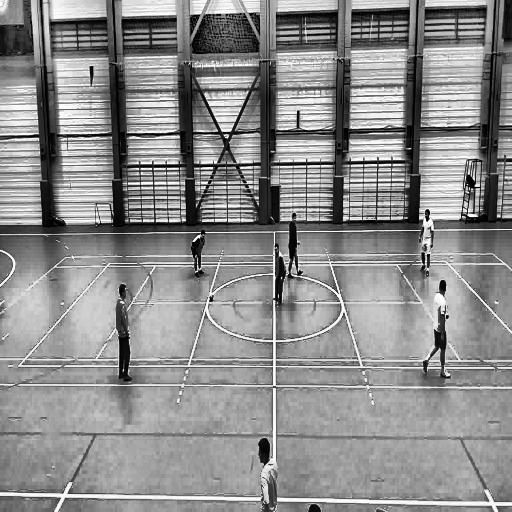ball: (206, 290, 217, 304)
player: (422, 279, 453, 384), (115, 282, 134, 386), (418, 208, 436, 277), (288, 212, 305, 280), (272, 242, 288, 307), (190, 229, 207, 279)
